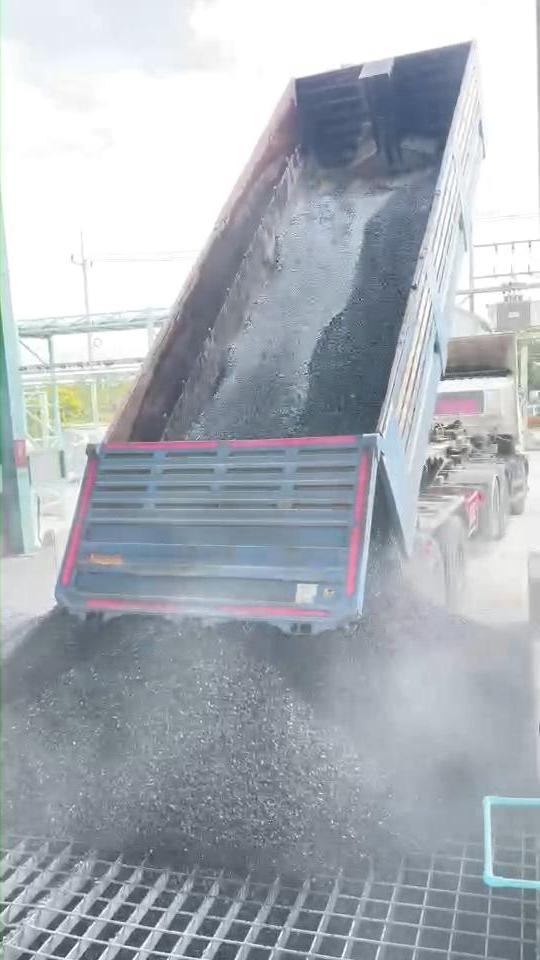gravel: (4, 485, 535, 872), (198, 174, 433, 436)
